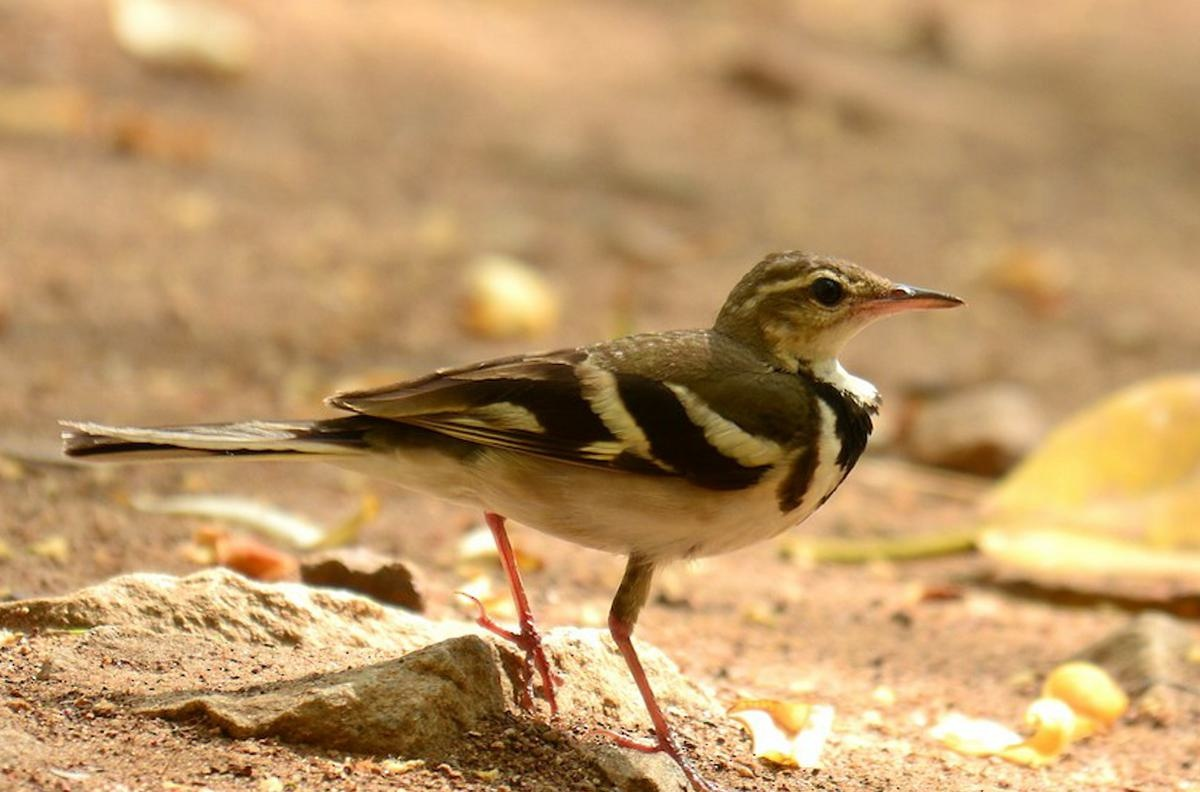wagtail: (87, 239, 988, 617)
